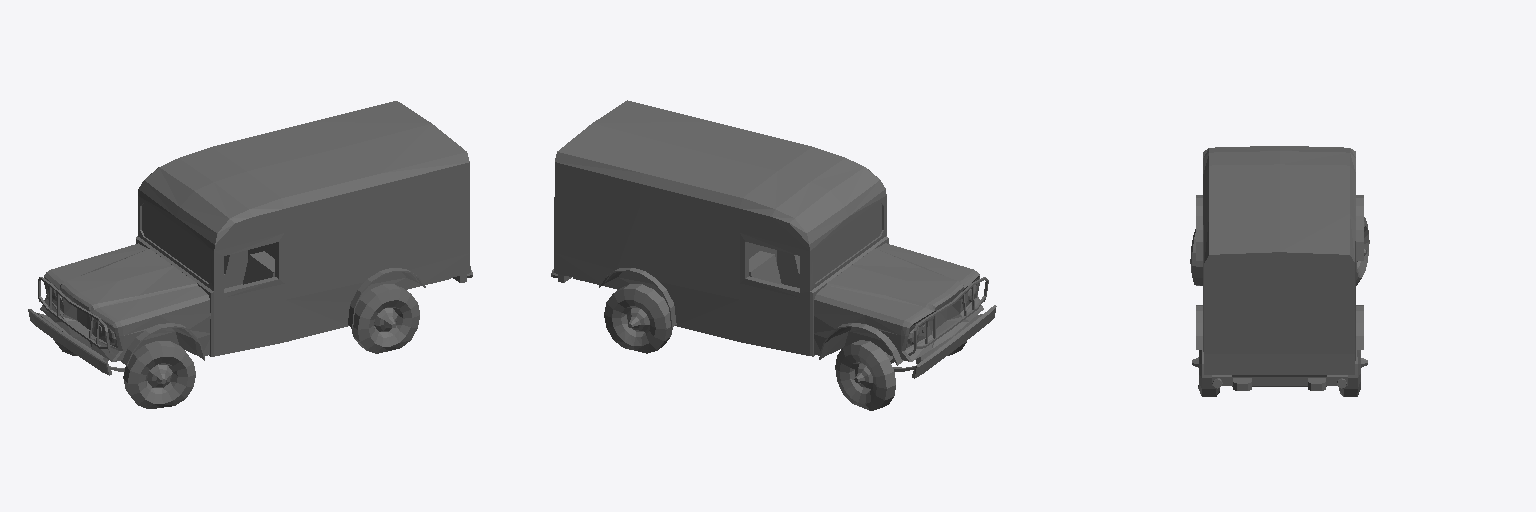
Rendered from car.obj.
3 views of the same model, side by side, from view 1: azimuth 30°, elevation 25°; view 2: azimuth 150°, elevation 25°; view 3: azimuth 270°, elevation 25° (orthographic).
Parts seen in each view (by area): view 1: Object003_Untitled; view 2: Object003_Untitled; view 3: Object003_Untitled.
Part boxes in pixels (x1,y1,x2,y2): Object003_Untitled: (28, 101, 472, 408); Object003_Untitled: (551, 100, 996, 410); Object003_Untitled: (1190, 146, 1369, 396).
Size of the model in its own units: 4.17 by 1.87 by 1.7.